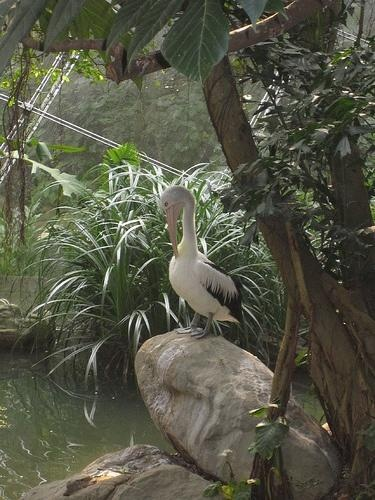bird: (156, 186, 249, 341)
